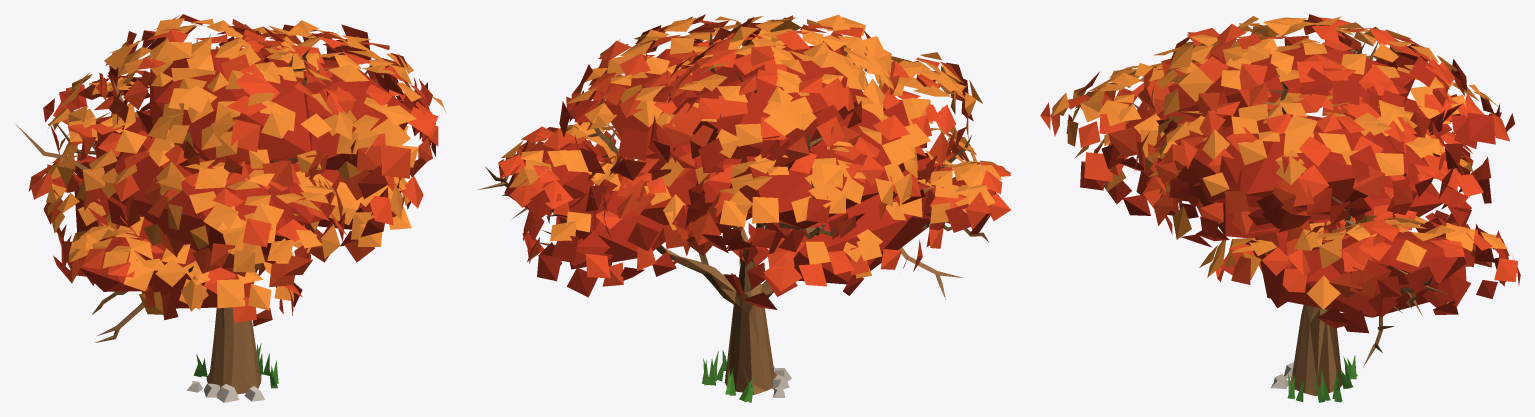
Rendered from maple_bloom.glb.
The picture shows the model from 3 angles, left to right: view 1: azimuth 30°, elevation 25°; view 2: azimuth 150°, elevation 25°; view 3: azimuth 270°, elevation 25°; orthographic projection. The views are drawn at different scales.
Visible parts, largest first — view 1: maple_bloom; view 2: maple_bloom; view 3: maple_bloom.
Boxes of the visible parts, <box> form: maple_bloom: <box>16,14,446,402</box>; maple_bloom: <box>478,14,1011,402</box>; maple_bloom: <box>1040,14,1520,402</box>.
Size of the model in its own units: 8.33 by 6.57 by 8.16.
